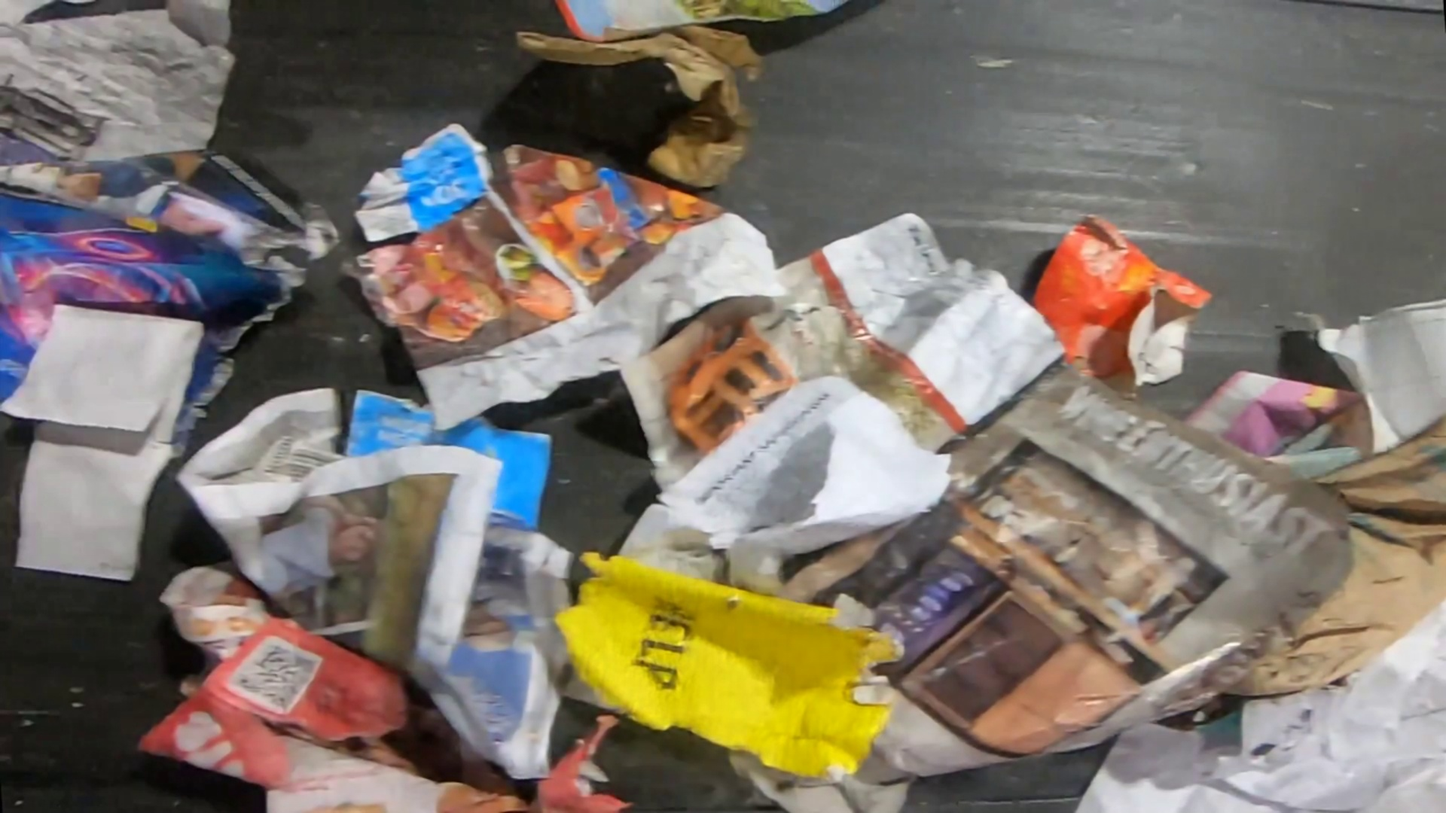cardboard: (549, 550, 909, 784), (127, 614, 415, 790), (509, 22, 769, 193), (1025, 211, 1220, 387), (342, 385, 556, 532), (530, 712, 639, 813)
